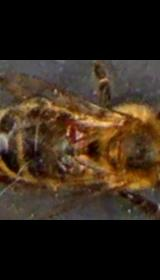varroa_mite: (62, 108, 86, 148)
